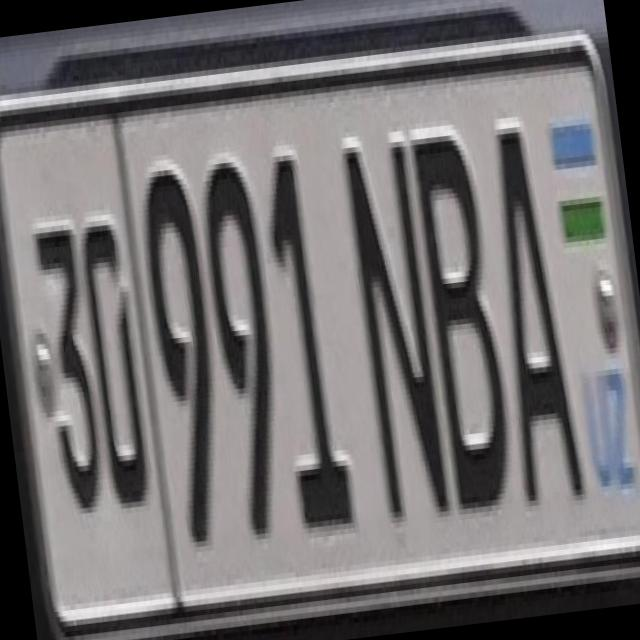0: (68, 186, 162, 520)
1: (240, 110, 357, 535)
3: (20, 208, 109, 516)
9: (188, 138, 298, 536), (128, 146, 235, 528)
A: (472, 108, 586, 507)
B: (406, 116, 520, 515)
N: (331, 119, 454, 519)
